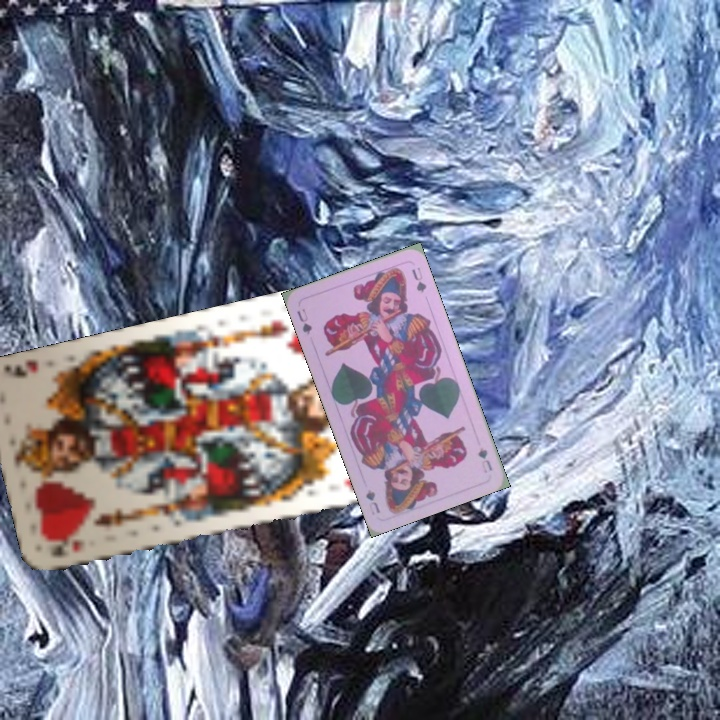GU: (293, 304, 315, 337), (474, 443, 495, 476)
HK: (46, 536, 87, 560)
